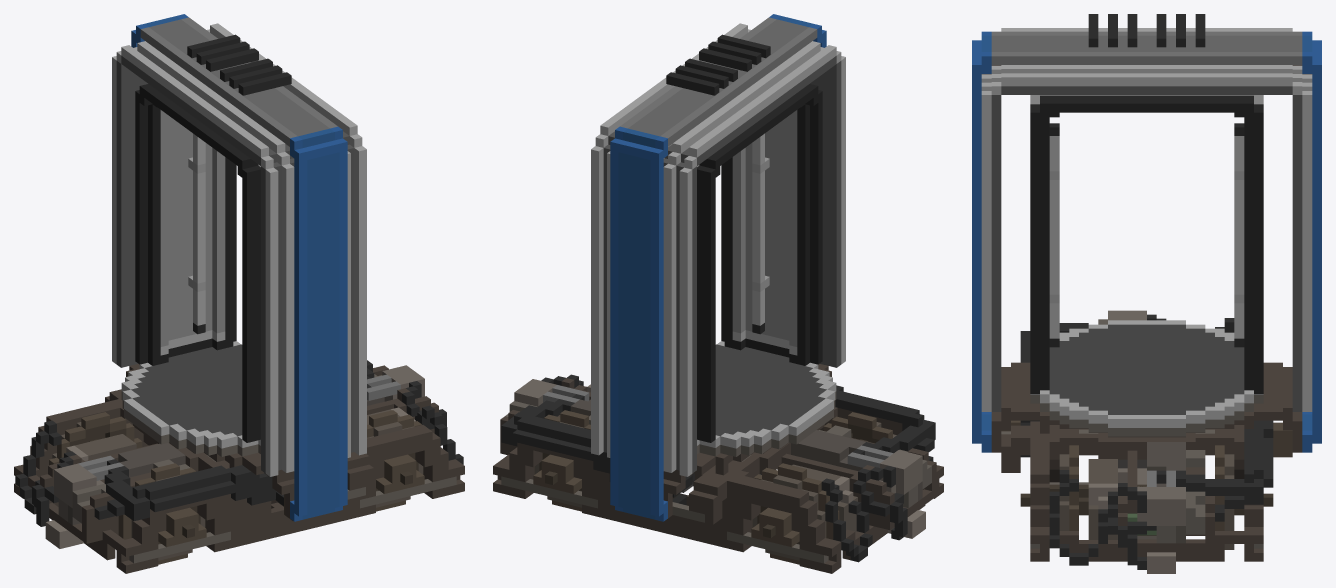
The model's file is tram2000bogie.obj.
3 views of the same model, side by side, from view 1: azimuth 30°, elevation 25°; view 2: azimuth 150°, elevation 25°; view 3: azimuth 270°, elevation 25° (orthographic). The views are drawn at different scales.
Visible parts, largest first — view 1: FRAME_1, INTERIOR, FRAME_2, FRAME_WHEEL_1, FRAME_WHEEL_2; view 2: FRAME_1, FRAME_2, INTERIOR, FRAME_WHEEL_1, FRAME_WHEEL_2; view 3: FRAME_1, INTERIOR, FRAME_2, FRAME_WHEEL_2.
Part boxes in pixels (x1,y1,x2,y2): FRAME_1: [112, 14, 366, 521]; INTERIOR: [121, 84, 260, 448]; FRAME_2: [14, 360, 464, 573]; FRAME_WHEEL_1: [49, 412, 205, 564]; FRAME_WHEEL_2: [367, 410, 423, 511]; FRAME_1: [591, 14, 845, 521]; FRAME_2: [493, 363, 943, 573]; INTERIOR: [697, 84, 836, 448]; FRAME_WHEEL_1: [752, 412, 896, 564]; FRAME_WHEEL_2: [534, 410, 590, 511]; FRAME_1: [972, 14, 1321, 452]; INTERIOR: [1030, 95, 1263, 427]; FRAME_2: [991, 310, 1302, 573]; FRAME_WHEEL_2: [1020, 445, 1273, 549].
Size of the model in its own units: 3 by 3.31 by 2.25.
1 material, 1 textured.
